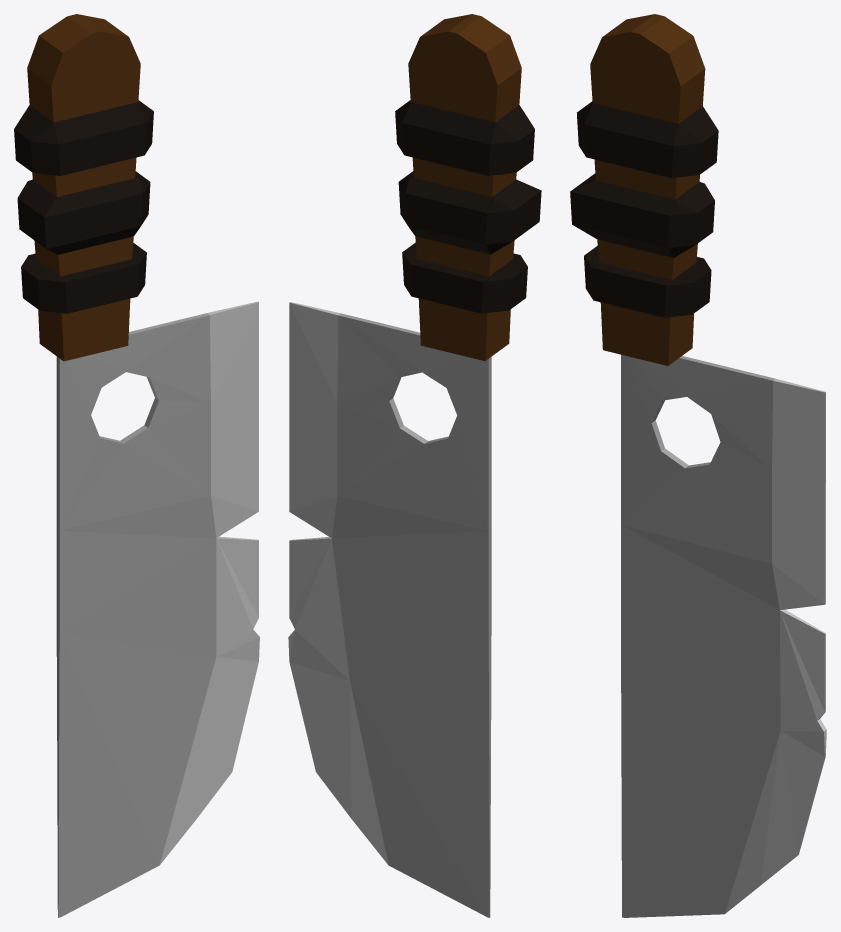
The model's file is Knife5.fbx.
3 renders of one model, left to right at view 1: azimuth 30°, elevation 25°; view 2: azimuth 150°, elevation 25°; view 3: azimuth 330°, elevation 25°, orthographic.
Visible parts, largest first — view 1: Куб; view 2: Куб; view 3: Куб.
Boxes of the visible parts, x1,y1,x2,y2 form: Куб: (14, 14, 259, 917); Куб: (288, 14, 541, 917); Куб: (570, 14, 826, 917).
Bounding box in the file's own units: 4.99 × 17.91 × 1.36.
